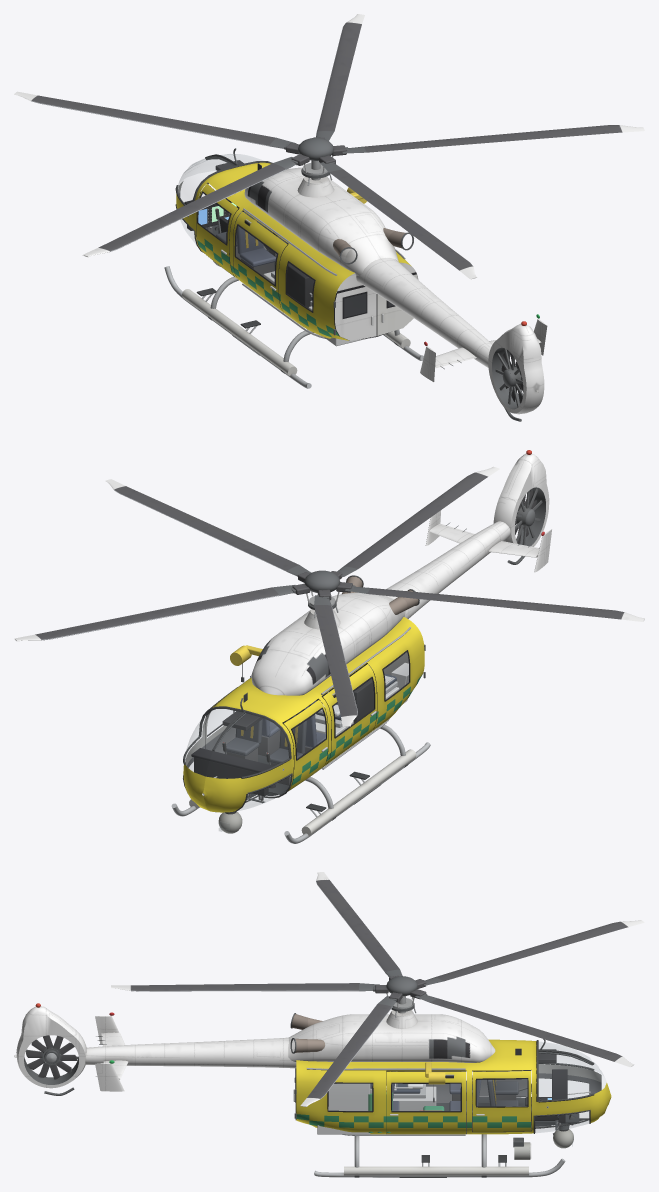
File: nightjar_n4.gltf
The picture shows the model from 3 angles, top to bottom: view 1: azimuth 30°, elevation 25°; view 2: azimuth 150°, elevation 25°; view 3: azimuth 270°, elevation 25°; orthographic projection. The views are drawn at different scales.
Visible parts, largest first — view 1: body skin (game), blades skin (game), Fuselage skin (game), Door skin.003 (game), door_rear_l skin (game), Door skin.002 (game), eq_floats skin (game), door_rear_r skin (game), eq_flir skin (game); view 2: body skin (game), Fuselage skin (game), blades skin (game), Door skin.003 (game), Door skin.002 (game), eq_floats skin (game), eq_flir skin (game), Instrument panel (game), Glareshield (game), door_crew_r skin (game); view 3: body skin (game), Fuselage skin (game), blades skin (game), Door skin.001 (game), Door skin (game), eq_floats skin (game), Equipment cabinet (game), tail_rotor skin (game), Cabin lining (game), Stretcher platform (game), Glareshield (game), eq_flir skin (game).
Part boxes in pixels (x1=…): body skin (game): x1=164, y1=148, x2=547, y2=421; blades skin (game): x1=14, y1=14, x2=644, y2=279; Fuselage skin (game): x1=176, y1=154, x2=411, y2=340; Door skin.003 (game): x1=233, y1=211, x2=287, y2=312; door_rear_l skin (game): x1=334, y1=286, x2=376, y2=340; Door skin.002 (game): x1=196, y1=183, x2=238, y2=275; eq_floats skin (game): x1=182, y1=289, x2=410, y2=375; door_rear_r skin (game): x1=376, y1=274, x2=417, y2=335; eq_flir skin (game): x1=213, y1=261, x2=314, y2=308; body skin (game): x1=171, y1=453, x2=551, y2=843; Fuselage skin (game): x1=183, y1=617, x2=424, y2=812; blades skin (game): x1=14, y1=466, x2=644, y2=726; Door skin.003 (game): x1=323, y1=664, x2=376, y2=764; Door skin.002 (game): x1=284, y1=700, x2=327, y2=790; eq_floats skin (game): x1=189, y1=749, x2=416, y2=835; eq_flir skin (game): x1=218, y1=664, x2=377, y2=833; Instrument panel (game): x1=194, y1=757, x2=268, y2=796; Glareshield (game): x1=191, y1=748, x2=273, y2=772; door_crew_r skin (game): x1=205, y1=682, x2=244, y2=753; body skin (game): x1=16, y1=996, x2=594, y2=1177; Fuselage skin (game): x1=296, y1=1039, x2=611, y2=1134; blades skin (game): x1=111, y1=872, x2=644, y2=1106; Door skin.001 (game): x1=386, y1=1071, x2=465, y2=1134; Door skin (game): x1=472, y1=1071, x2=530, y2=1131; eq_floats skin (game): x1=344, y1=1166, x2=528, y2=1175; Equipment cabinet (game): x1=317, y1=1083, x2=370, y2=1134; tail_rotor skin (game): x1=26, y1=1035, x2=77, y2=1079; Cabin lining (game): x1=478, y1=1064, x2=601, y2=1126; Stretcher platform (game): x1=393, y1=1086, x2=436, y2=1110; Glareshield (game): x1=552, y1=1069, x2=567, y2=1099; eq_flir skin (game): x1=386, y1=1071, x2=573, y2=1148.
Size of the model in its own units: 10.5 by 3.64 by 11.92.
Materials: 58 (19 with a texture image).
